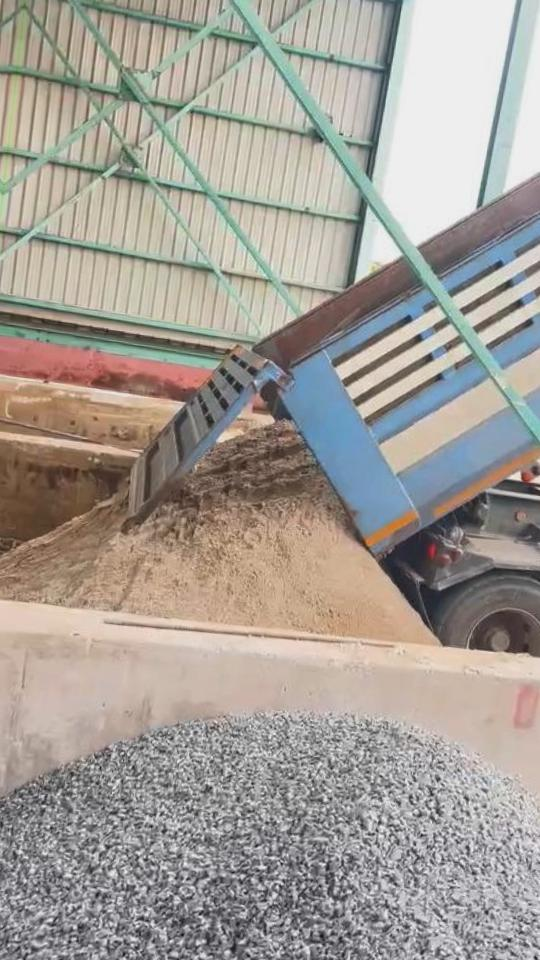gravel: (0, 714, 540, 960)
sand: (0, 422, 436, 643)
